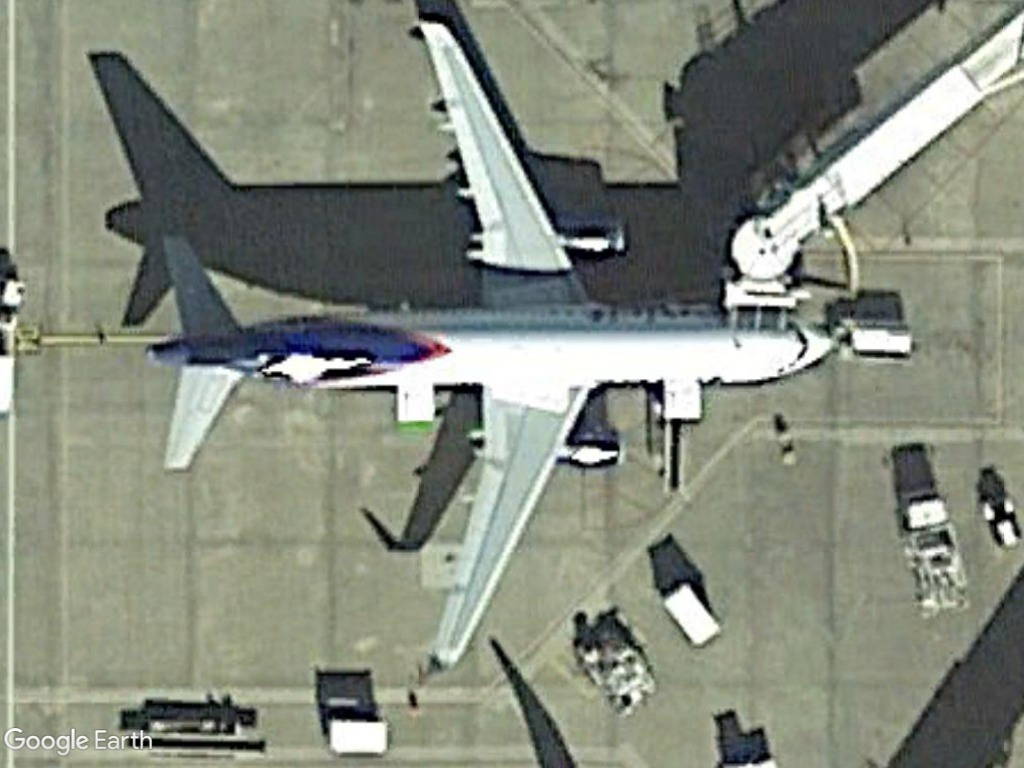airliner: (136, 12, 852, 686)
